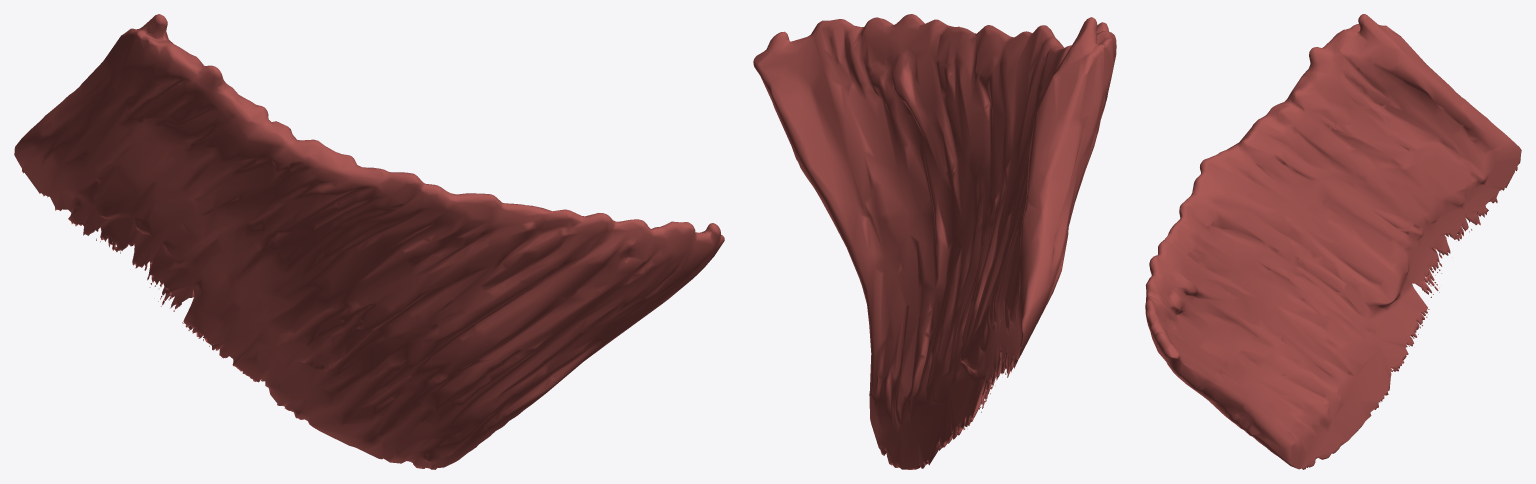
File: FMA46817.glb
3 renders of one model, left to right at view 1: azimuth 30°, elevation 25°; view 2: azimuth 150°, elevation 25°; view 3: azimuth 270°, elevation 25°, orthographic. The views are drawn at different scales.
Visible parts, largest first — view 1: FMA46817; view 2: FMA46817; view 3: FMA46817.
Boxes of the visible parts, x1=… form: FMA46817: x1=14, y1=14, x2=724, y2=469; FMA46817: x1=753, y1=14, x2=1116, y2=469; FMA46817: x1=1145, y1=14, x2=1521, y2=469.
Size of the model in its own units: 0.0297 by 0.0286 by 0.0264.
